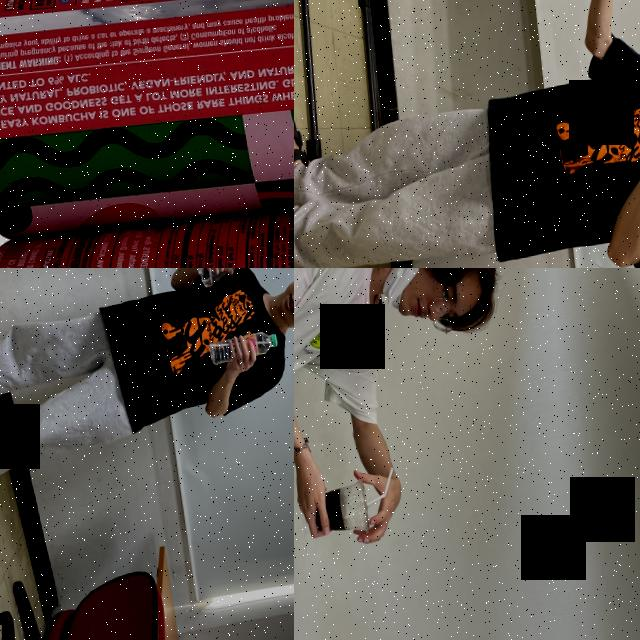bottle: (206, 328, 278, 366), (192, 268, 265, 290)
can: (0, 0, 294, 246), (0, 188, 294, 268)
cup: (305, 476, 376, 540)
